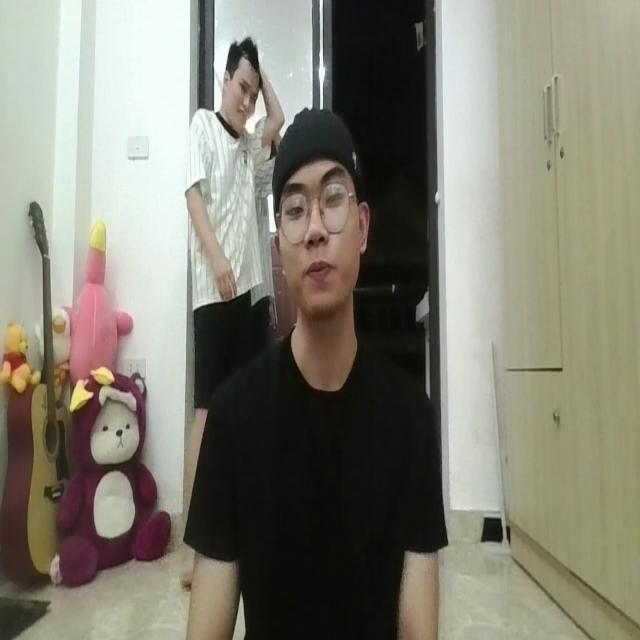extra_person: (186, 30, 283, 401)
student: (194, 102, 444, 640)
